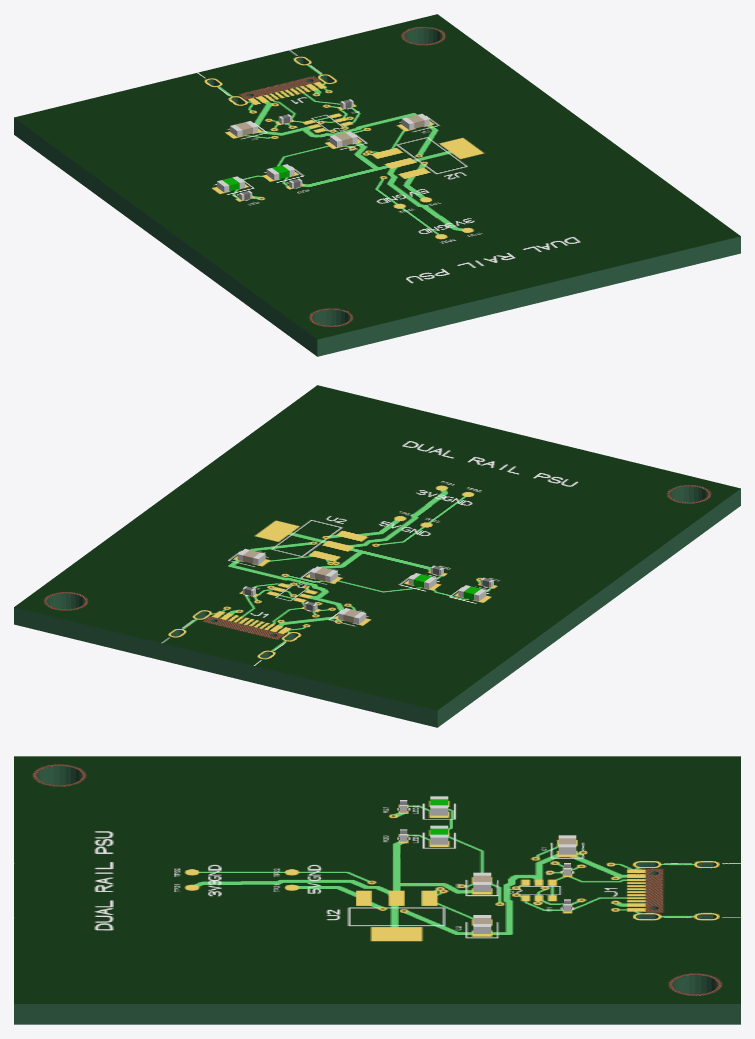
Rendered from board.glb.
3 views of the same model, one above another, from view 1: azimuth 30°, elevation 25°; view 2: azimuth 150°, elevation 25°; view 3: azimuth 270°, elevation 25° (orthographic). The views are drawn at different scales.
Parts seen in each view (by area): view 1: Box0; view 2: Box0; view 3: Box0.
Boxes of the visible parts, x1,y1,x2,y2 form: Box0: (14, 14, 740, 356); Box0: (14, 385, 740, 727); Box0: (14, 756, 740, 1024).
Size of the model in its own units: 41.1 by 2.15 by 51.
7 materials, 2 textured.
